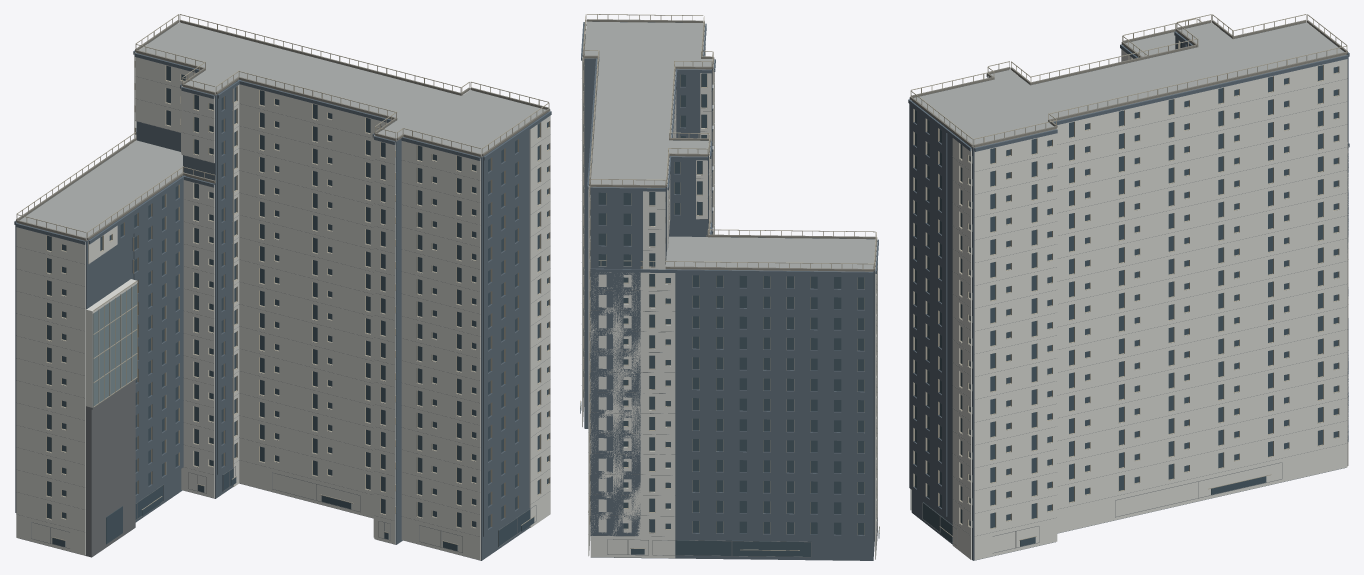
Rendered from bespoke-raemian-onebailey-122.glb.
3 renders of one model, left to right at view 1: azimuth 30°, elevation 25°; view 2: azimuth 150°, elevation 25°; view 3: azimuth 270°, elevation 25°, orthographic. The views are drawn at different scales.
Parts seen in each view (by area): view 1: 122_observed_facade_bays006_4, 122_observed_facade_bays006_3, 122_setback_roof_and_bridge_bracing006_2, 122_observed_facade_bays006_1, 122_authored_massing, 122_observed_facade_bays006_2, 122_observed_facade_bays006_5, 122_setback_roof_and_bridge_bracing006, 122_observed_facade_bays006, 122_setback_roof_and_bridge_bracing006_1; view 2: 122_observed_facade_bays006_3, 122_observed_facade_bays006_4, 122_setback_roof_and_bridge_bracing006_2, 122_observed_facade_bays006_1, 122_authored_massing, 122_observed_facade_bays006_2, 122_setback_roof_and_bridge_bracing006, 122_setback_roof_and_bridge_bracing006_1, 122_observed_facade_bays006_5; view 3: 122_observed_facade_bays006_4, 122_observed_facade_bays006_1, 122_setback_roof_and_bridge_bracing006_2, 122_observed_facade_bays006_3, 122_observed_facade_bays006_2, 122_authored_massing, 122_observed_facade_bays006_5, 122_setback_roof_and_bridge_bracing006, 122_setback_roof_and_bridge_bracing006_1.
Boxes of the visible parts, x1=… form: 122_observed_facade_bays006_4: x1=16, y1=44, x2=550, y2=560; 122_observed_facade_bays006_3: x1=14, y1=22, x2=551, y2=536; 122_setback_roof_and_bridge_bracing006_2: x1=18, y1=22, x2=546, y2=241; 122_observed_facade_bays006_1: x1=47, y1=65, x2=548, y2=551; 122_authored_massing: x1=20, y1=81, x2=548, y2=560; 122_observed_facade_bays006_2: x1=46, y1=61, x2=549, y2=545; 122_observed_facade_bays006_5: x1=16, y1=76, x2=550, y2=557; 122_setback_roof_and_bridge_bracing006: x1=16, y1=19, x2=549, y2=240; 122_observed_facade_bays006: x1=92, y1=284, x2=136, y2=407; 122_setback_roof_and_bridge_bracing006_1: x1=16, y1=14, x2=549, y2=237; 122_observed_facade_bays006_3: x1=581, y1=21, x2=878, y2=539; 122_observed_facade_bays006_4: x1=582, y1=25, x2=877, y2=559; 122_setback_roof_and_bridge_bracing006_2: x1=584, y1=21, x2=875, y2=271; 122_observed_facade_bays006_1: x1=580, y1=36, x2=879, y2=556; 122_authored_massing: x1=584, y1=58, x2=874, y2=560; 122_observed_facade_bays006_2: x1=580, y1=41, x2=879, y2=550; 122_setback_roof_and_bridge_bracing006: x1=582, y1=19, x2=877, y2=271; 122_setback_roof_and_bridge_bracing006_1: x1=583, y1=14, x2=876, y2=268; 122_observed_facade_bays006_5: x1=581, y1=49, x2=877, y2=557; 122_observed_facade_bays006_4: x1=910, y1=25, x2=1348, y2=560; 122_observed_facade_bays006_1: x1=915, y1=42, x2=1338, y2=546; 122_setback_roof_and_bridge_bracing006_2: x1=914, y1=22, x2=1345, y2=148; 122_observed_facade_bays006_3: x1=908, y1=23, x2=1349, y2=516; 122_observed_facade_bays006_2: x1=913, y1=40, x2=1339, y2=540; 122_authored_massing: x1=911, y1=32, x2=1345, y2=560; 122_observed_facade_bays006_5: x1=922, y1=78, x2=1347, y2=553; 122_setback_roof_and_bridge_bracing006: x1=910, y1=20, x2=1347, y2=147; 122_setback_roof_and_bridge_bracing006_1: x1=910, y1=14, x2=1347, y2=144.
Size of the model in its own units: 61.59 by 56.85 by 53.88.
